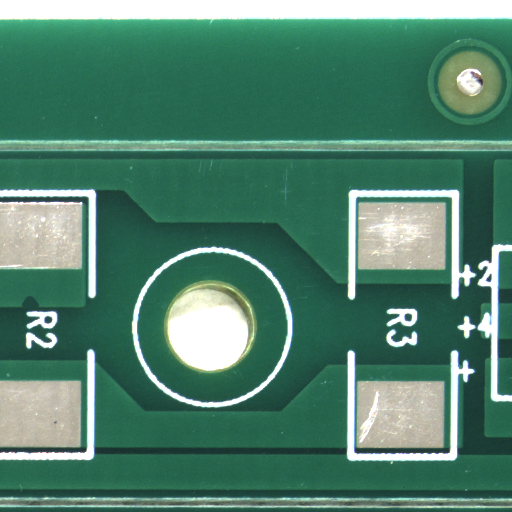Mouse_bite: (31, 302, 48, 315)
